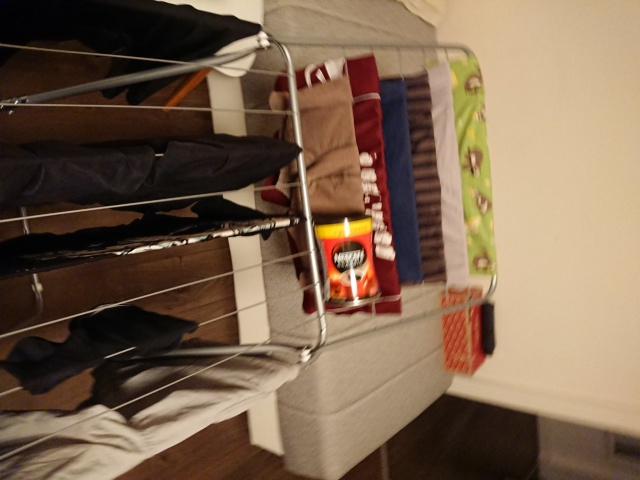Nescafe Classic 225g: (309, 212, 385, 309)
